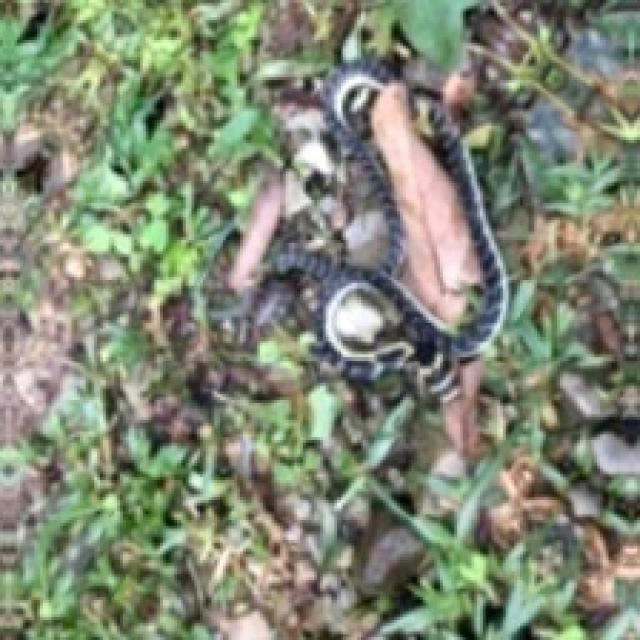king cobra: (229, 60, 506, 394)
